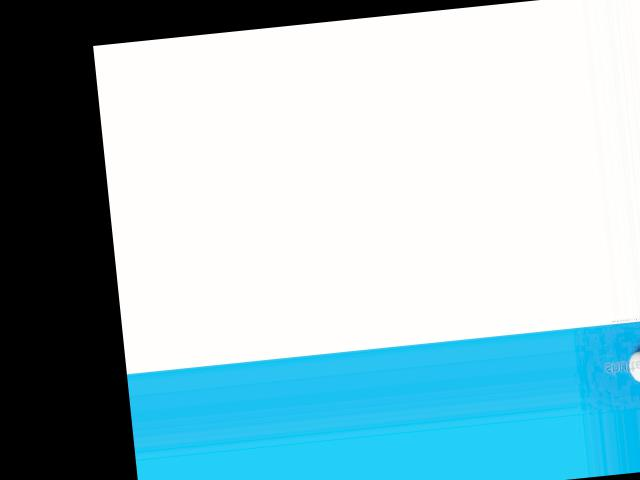egg: (628, 349, 640, 383)
